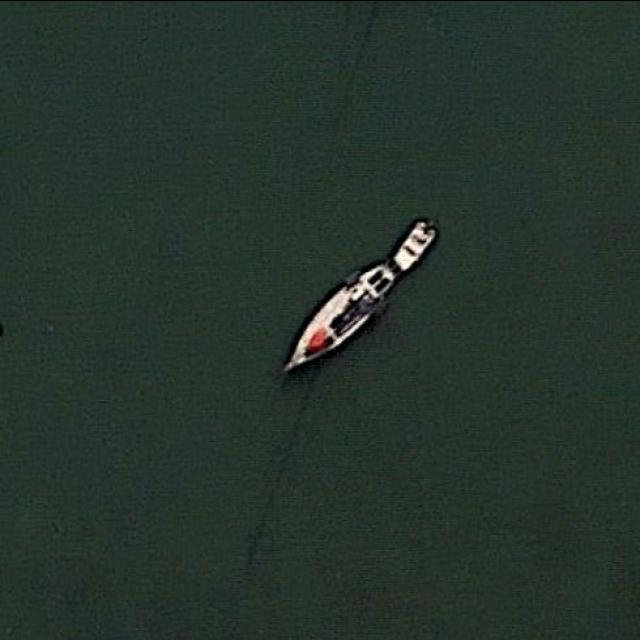ship: (272, 221, 438, 377)
